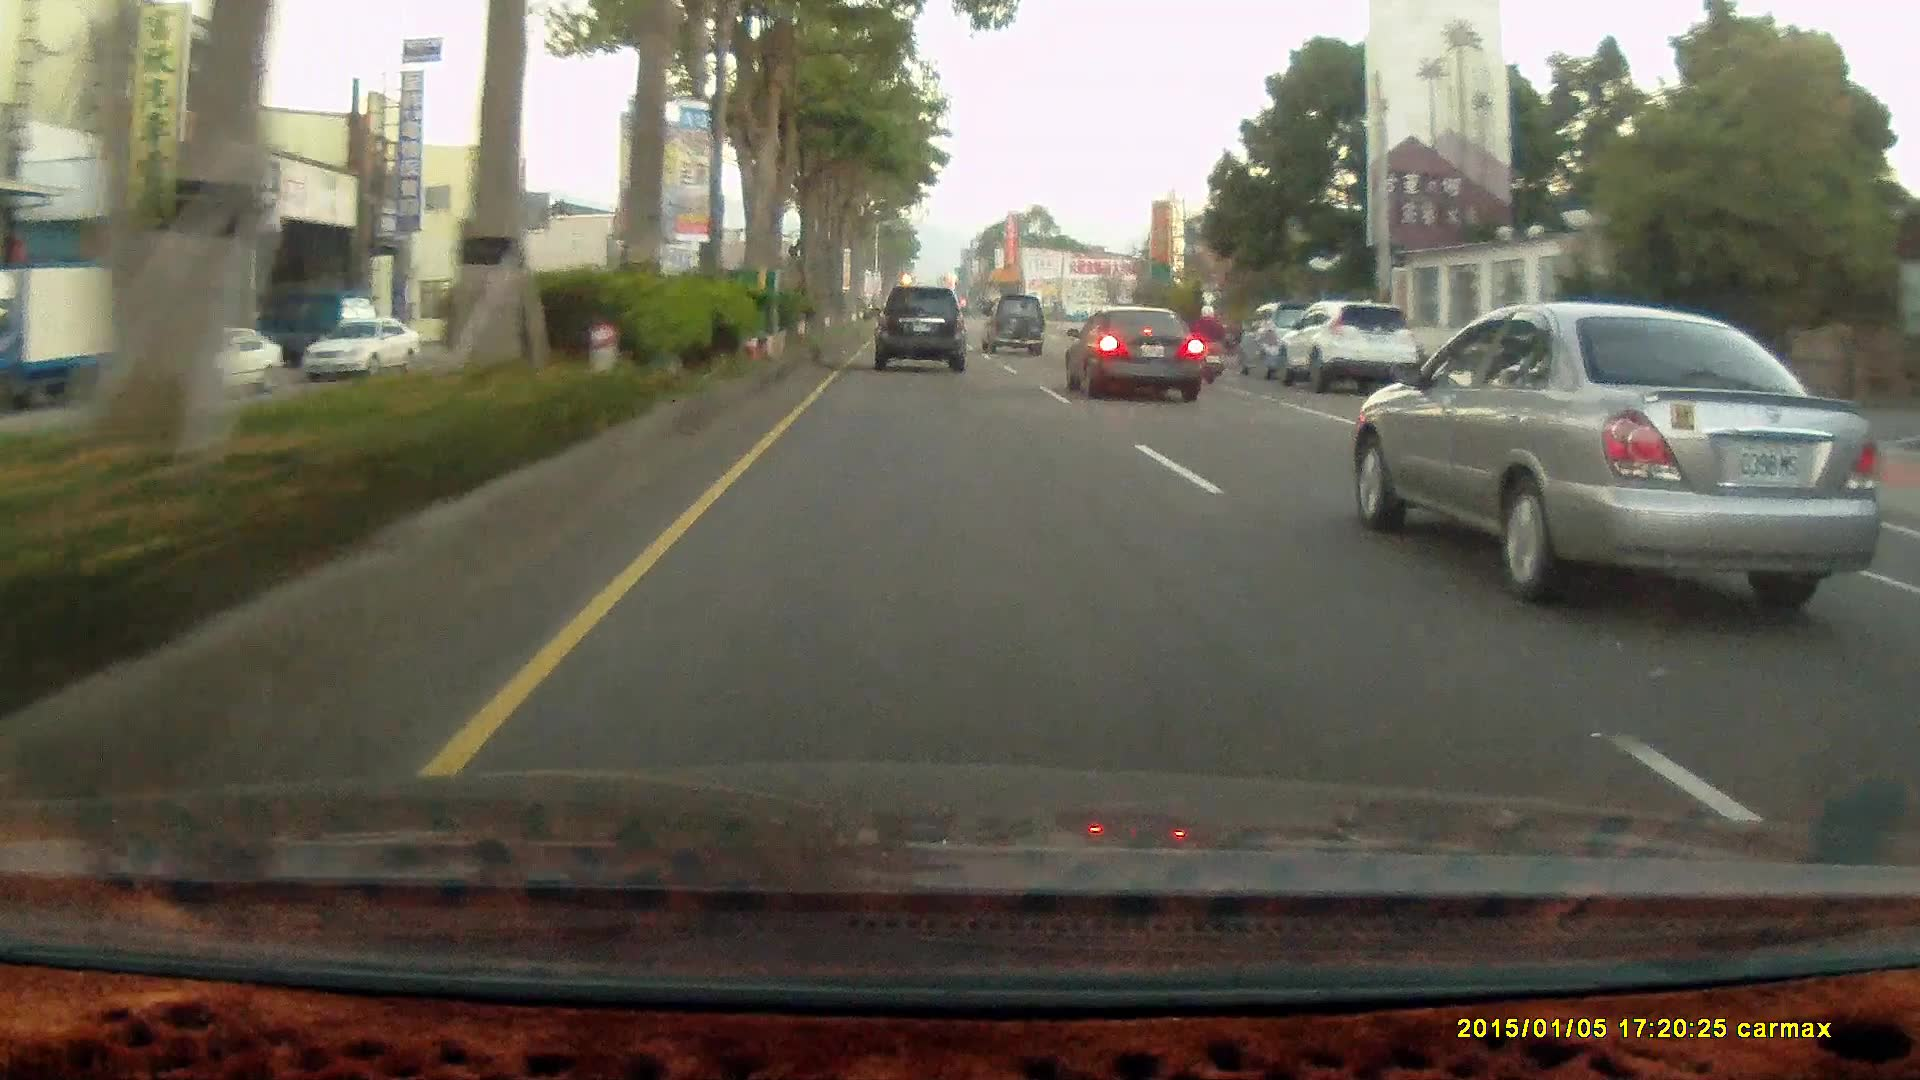rider: (1189, 302, 1226, 384)
vehicle: (1354, 299, 1884, 590), (1, 262, 140, 413), (0, 261, 116, 412), (1066, 303, 1211, 404), (1062, 304, 1204, 401), (1274, 298, 1416, 389), (1282, 303, 1421, 392), (139, 324, 282, 398), (140, 328, 283, 402), (871, 281, 972, 376), (870, 285, 965, 373), (1235, 299, 1335, 379), (303, 319, 423, 380), (983, 293, 1049, 359), (982, 292, 1043, 353)
